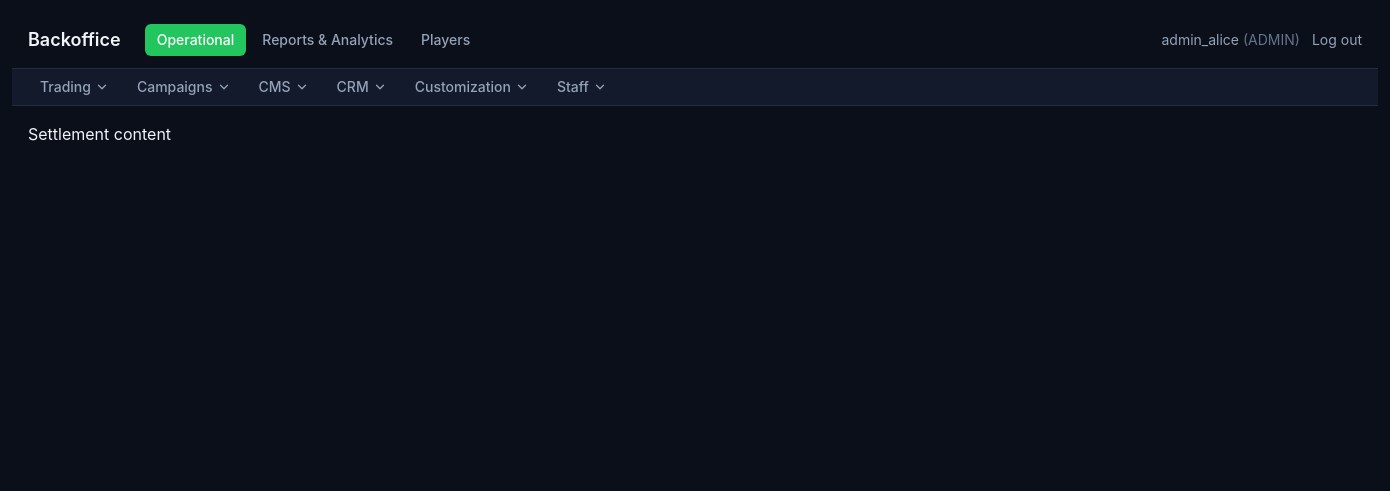
Scenario: AppShell navigation groups › shows only groups/items the ADMIN role can see within Operational, and opens a group dropdown on click
Expected: the button "CMS" is shown, x1=246 y1=69 x2=321 y2=105
Expected: the button "Customization" is shown, x1=403 y1=69 x2=541 y2=105
What coordinates should you click on to do the following:
click the button "Trading"
I would click on:
 (74, 87)
Its box is x1=28 y1=69 x2=121 y2=105.
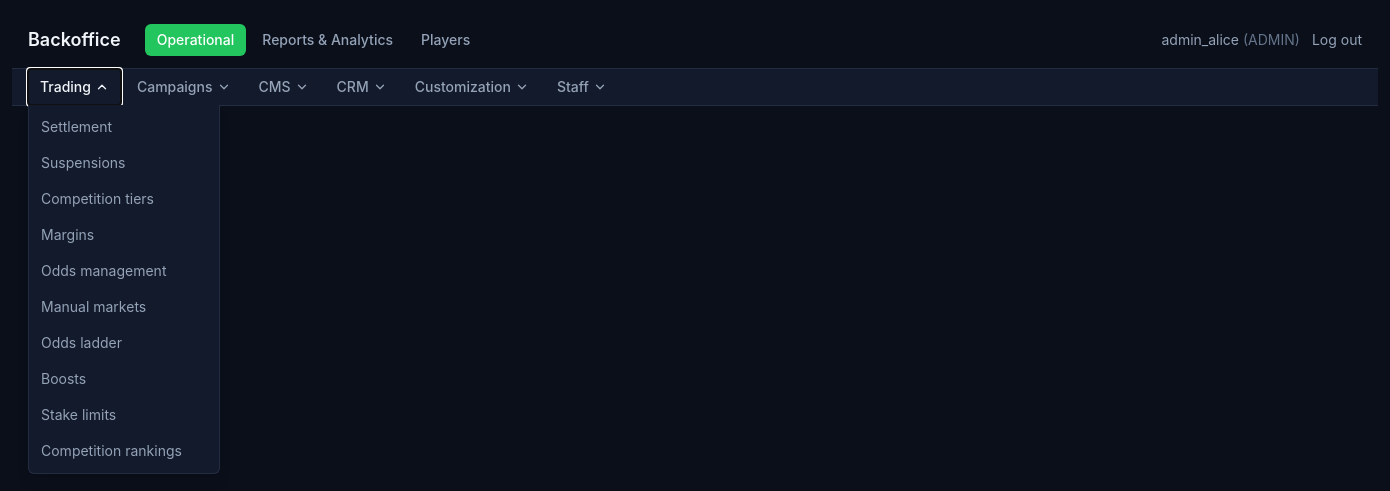
Expected: the link "Settlement" is shown, x1=41 y1=118 x2=112 y2=135
Expected: the link "Margins" is shown, x1=41 y1=226 x2=94 y2=243
Expected: the link "Suspensions" is shown, x1=41 y1=154 x2=126 y2=171
